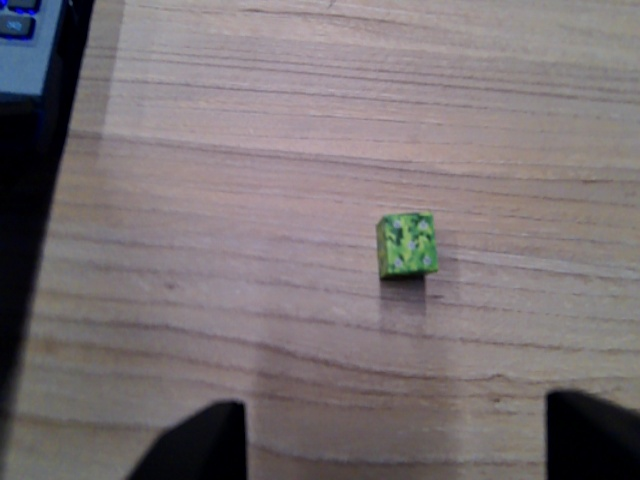grass: (370, 209, 441, 281)
